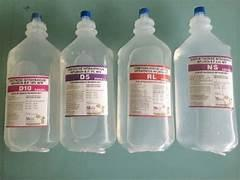Iv_Bottle: (174, 6, 237, 153), (117, 8, 174, 152), (60, 11, 115, 152), (4, 13, 59, 151)
